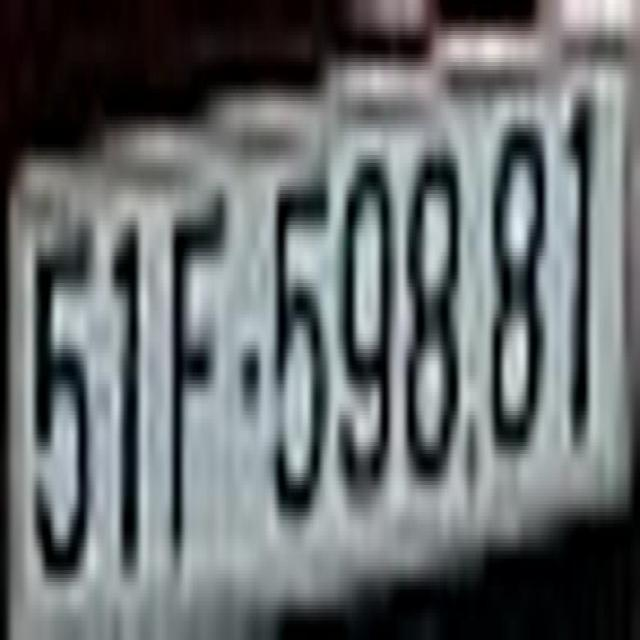1: (564, 85, 601, 450), (110, 214, 144, 566)
5: (273, 163, 324, 500), (36, 244, 90, 558)
8: (408, 136, 458, 488), (497, 112, 544, 423)
9: (344, 167, 390, 481)
F: (170, 182, 233, 520)
